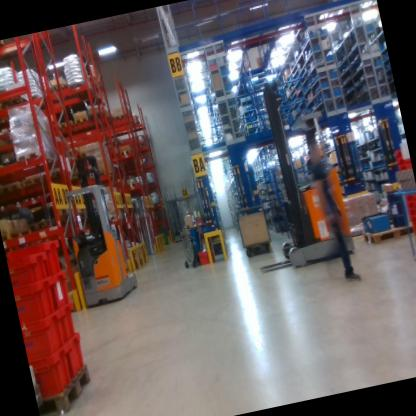forklift: (217, 63, 360, 281), (49, 144, 146, 320)
pallet: (35, 361, 97, 416), (361, 217, 416, 244), (0, 84, 36, 107), (1, 178, 24, 201), (1, 225, 31, 242), (21, 175, 45, 196), (74, 113, 91, 132), (28, 217, 47, 233), (58, 115, 75, 131), (49, 79, 66, 94), (0, 154, 10, 174), (0, 40, 9, 53)
small_load_carrier: (13, 275, 54, 322), (29, 347, 70, 392), (7, 244, 49, 287), (23, 315, 62, 360), (60, 334, 92, 386), (41, 265, 77, 306), (48, 299, 82, 340), (35, 233, 69, 271)
